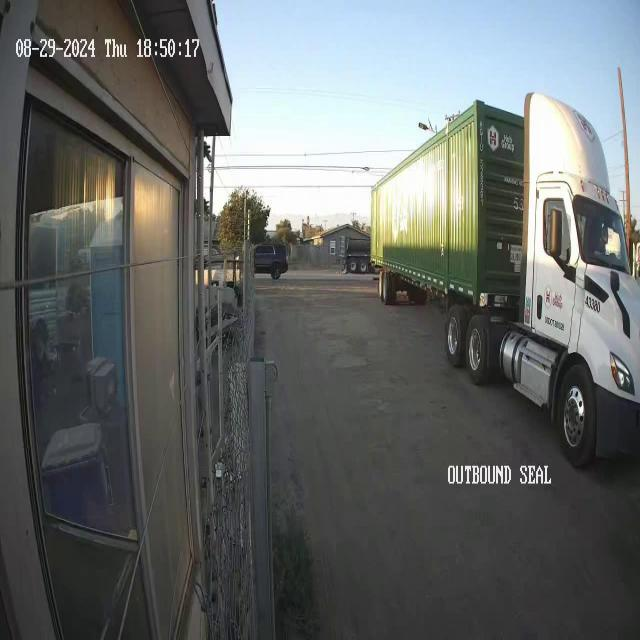TRUCK_IN: (369, 90, 639, 468)
